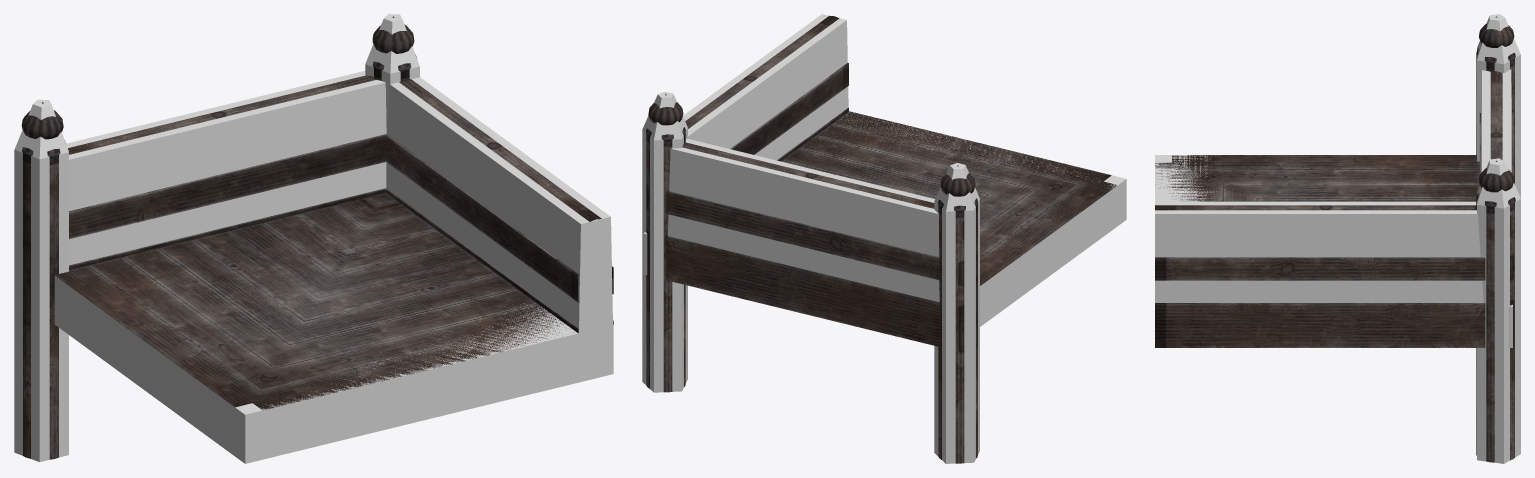
Rendered from JD_Bridge_A_Cor_2x2_01.fbx.
The picture shows the model from 3 angles, left to right: view 1: azimuth 30°, elevation 25°; view 2: azimuth 150°, elevation 25°; view 3: azimuth 270°, elevation 25°; orthographic projection. The views are drawn at different scales.
Visible parts, largest first — view 1: C_JD_Bridge_A_Cor_2x2_01, JD_Bridge_A_Cor_2x2_01; view 2: JD_Bridge_A_Cor_2x2_01, C_JD_Bridge_A_Cor_2x2_01; view 3: JD_Bridge_A_Cor_2x2_01, C_JD_Bridge_A_Cor_2x2_01.
Part boxes in pixels (x1=…): C_JD_Bridge_A_Cor_2x2_01: x1=14, y1=14, x2=613, y2=463; JD_Bridge_A_Cor_2x2_01: x1=21, y1=16, x2=613, y2=459; JD_Bridge_A_Cor_2x2_01: x1=646, y1=15, x2=1116, y2=463; C_JD_Bridge_A_Cor_2x2_01: x1=642, y1=14, x2=1126, y2=463; JD_Bridge_A_Cor_2x2_01: x1=1155, y1=16, x2=1515, y2=462; C_JD_Bridge_A_Cor_2x2_01: x1=1155, y1=14, x2=1520, y2=463.
Bounding box in the file's own units: 4.54 × 3.8 × 4.29.
